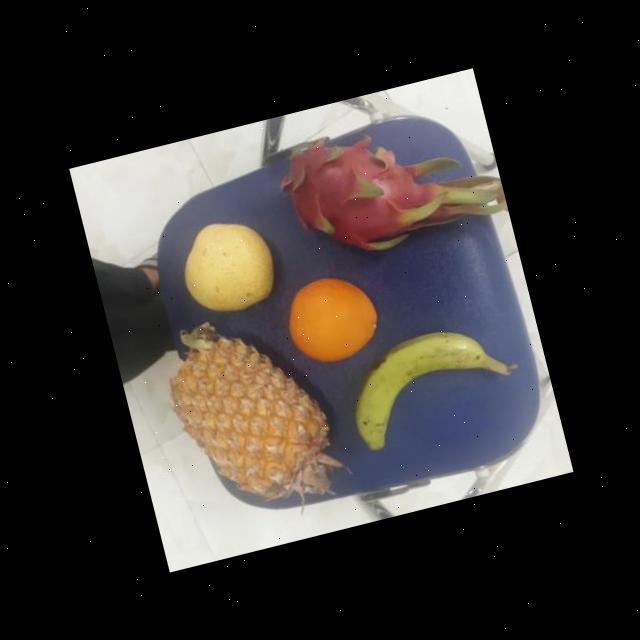banana: (336, 318, 514, 454)
orange: (278, 266, 386, 374)
pear: (169, 210, 282, 326)
pineapple: (156, 316, 346, 534)
pitaya: (268, 107, 478, 276)
